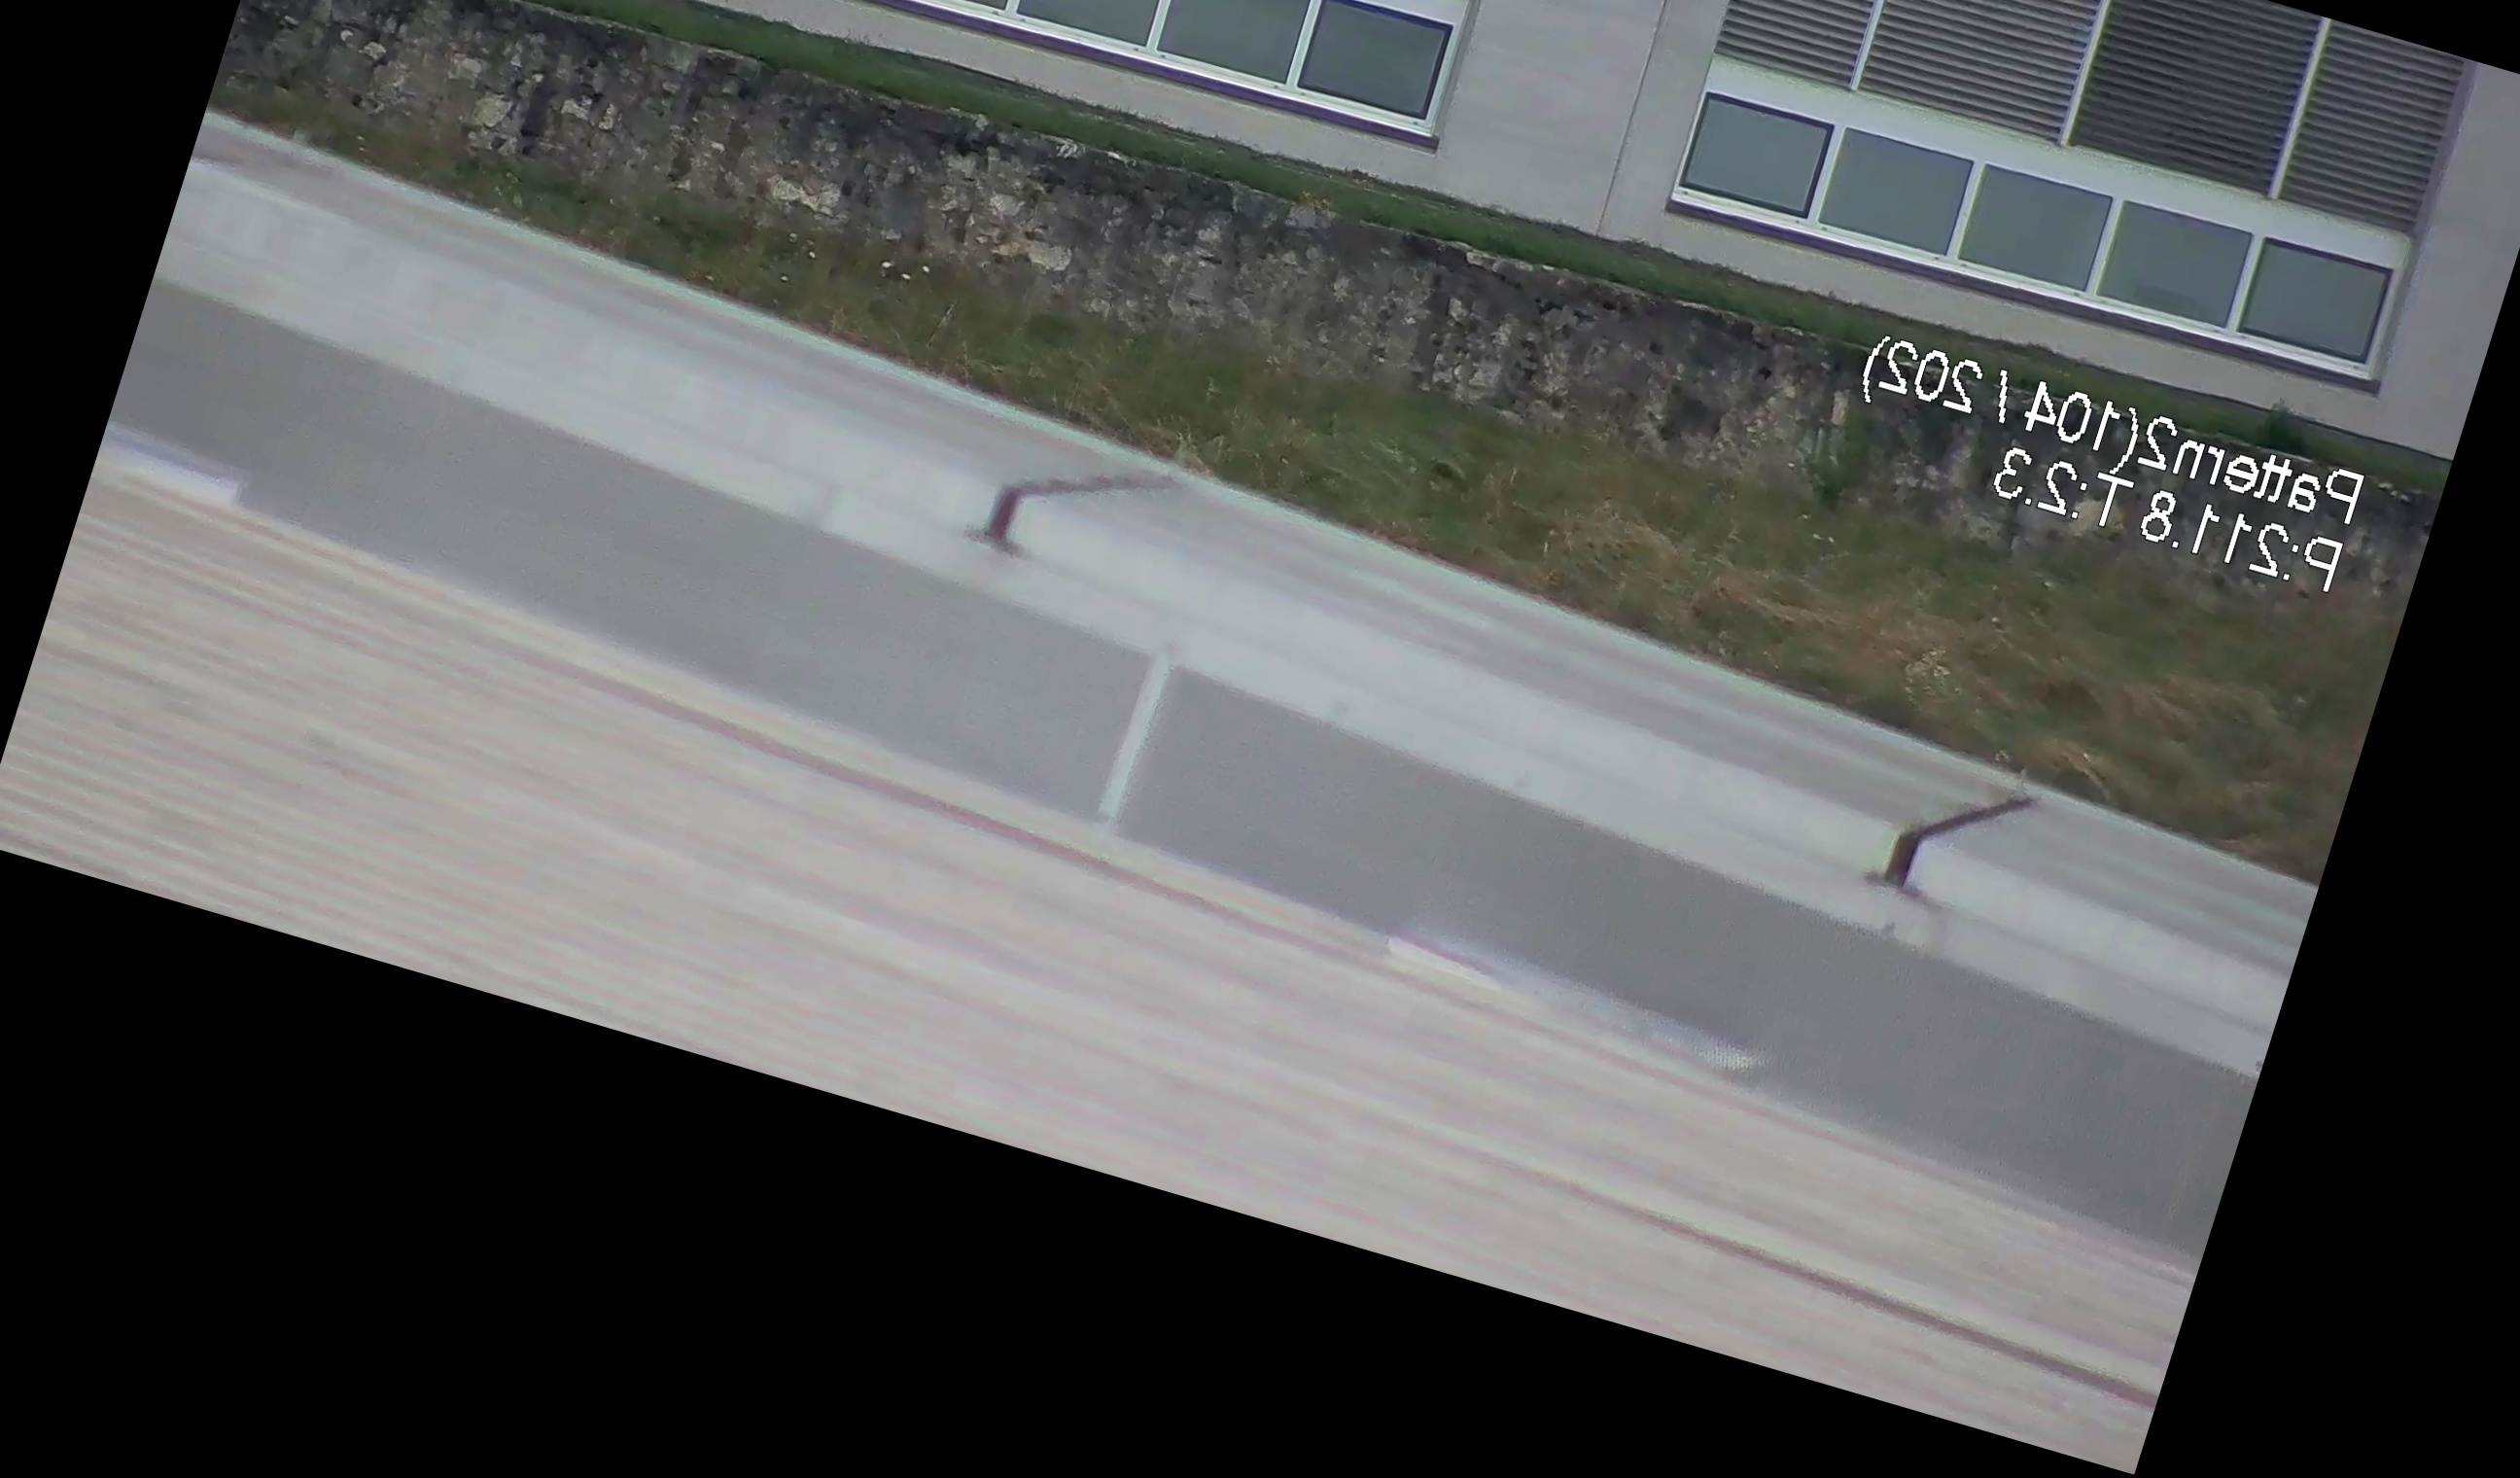Other: (1866, 744, 2059, 947)
